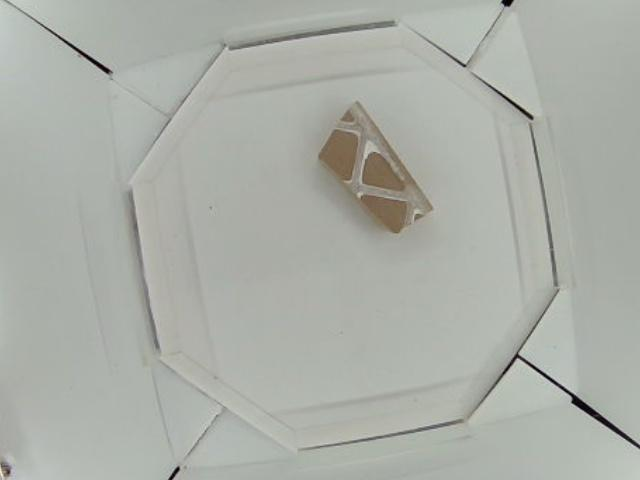China: (320, 101, 430, 234)
